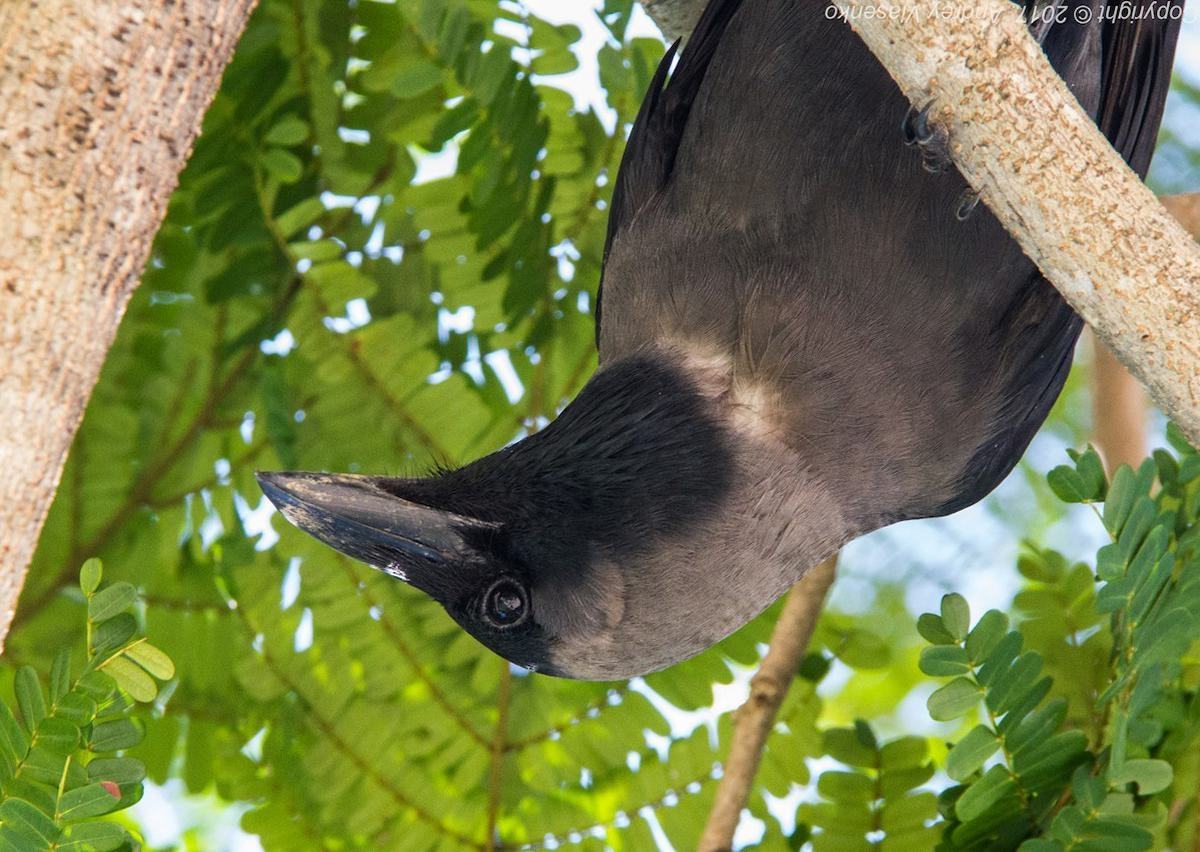crow: (255, 18, 1143, 686)
